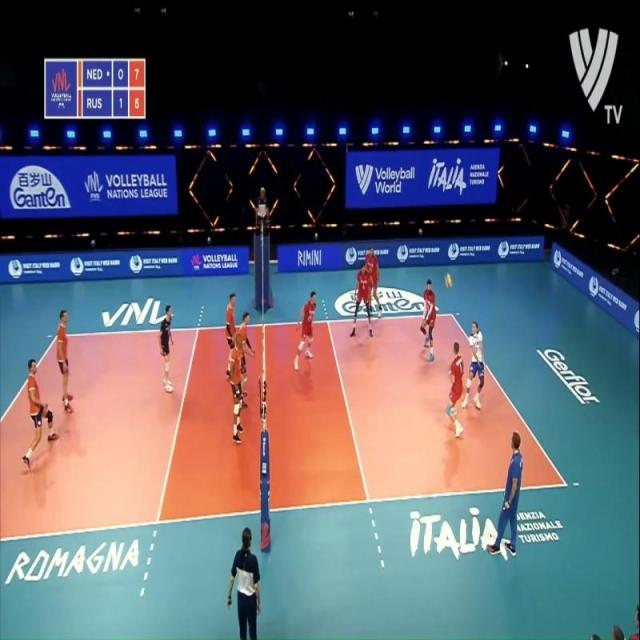volleyball: (445, 274, 452, 288)
